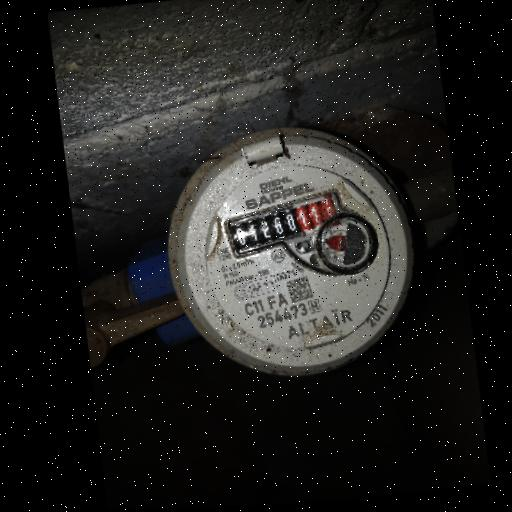0: (280, 208, 301, 237), (231, 222, 252, 250)
1: (294, 205, 316, 233), (308, 200, 329, 229), (244, 218, 265, 246)
2: (256, 214, 277, 243)
5: (320, 192, 339, 220)
6: (268, 211, 289, 239)
border_water_meter_number: (214, 180, 353, 263)
